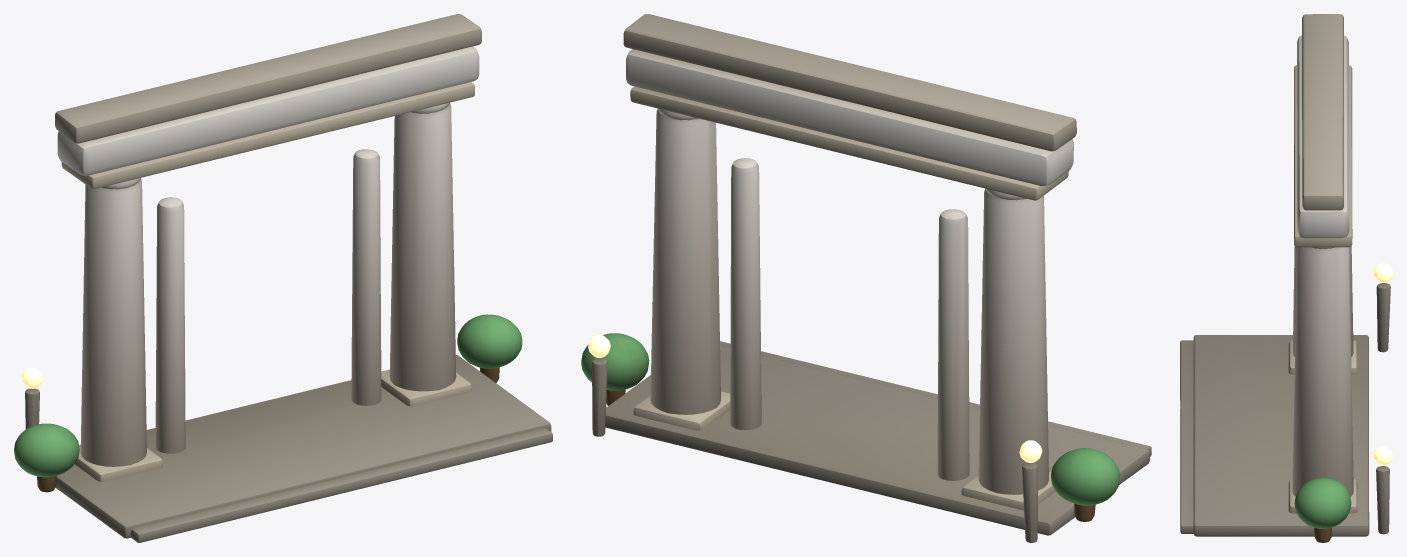
3 renders of one model, left to right at view 1: azimuth 30°, elevation 25°; view 2: azimuth 150°, elevation 25°; view 3: azimuth 270°, elevation 25°, orthographic. The views are drawn at different scales.
Visible parts, largest first — view 1: gate_ae1f98a5; view 2: gate_ae1f98a5; view 3: gate_ae1f98a5.
Boxes of the visible parts, <box> form: gate_ae1f98a5: <box>14,14,552,542</box>; gate_ae1f98a5: <box>581,14,1151,542</box>; gate_ae1f98a5: <box>1180,14,1392,542</box>.
Bounding box in the file's own units: 6.36 × 4.47 × 2.55.
